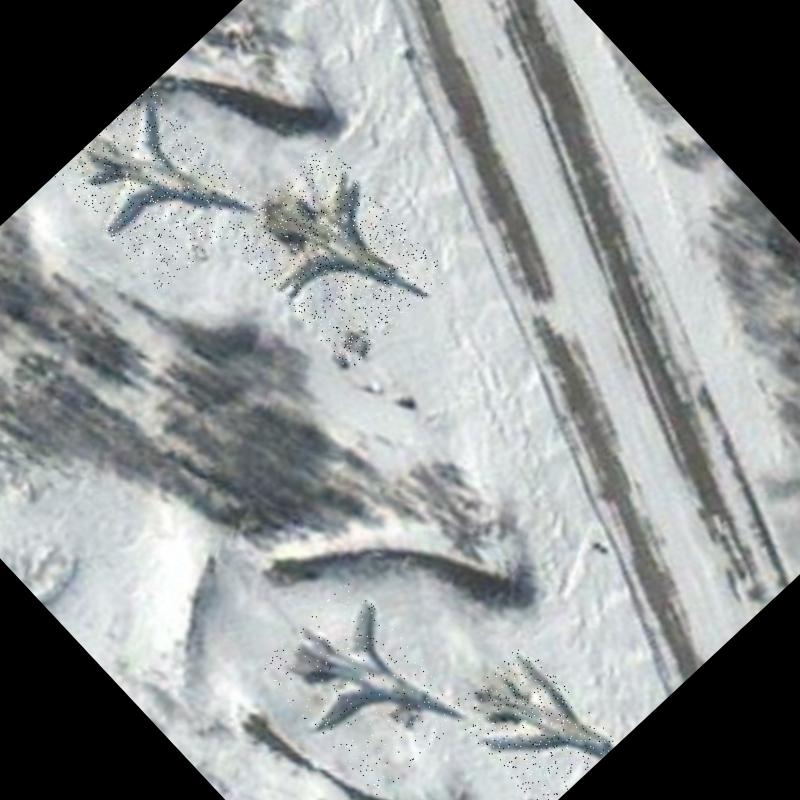A12: (222, 138, 452, 370), (255, 578, 472, 798), (53, 86, 260, 294), (448, 641, 618, 800)
